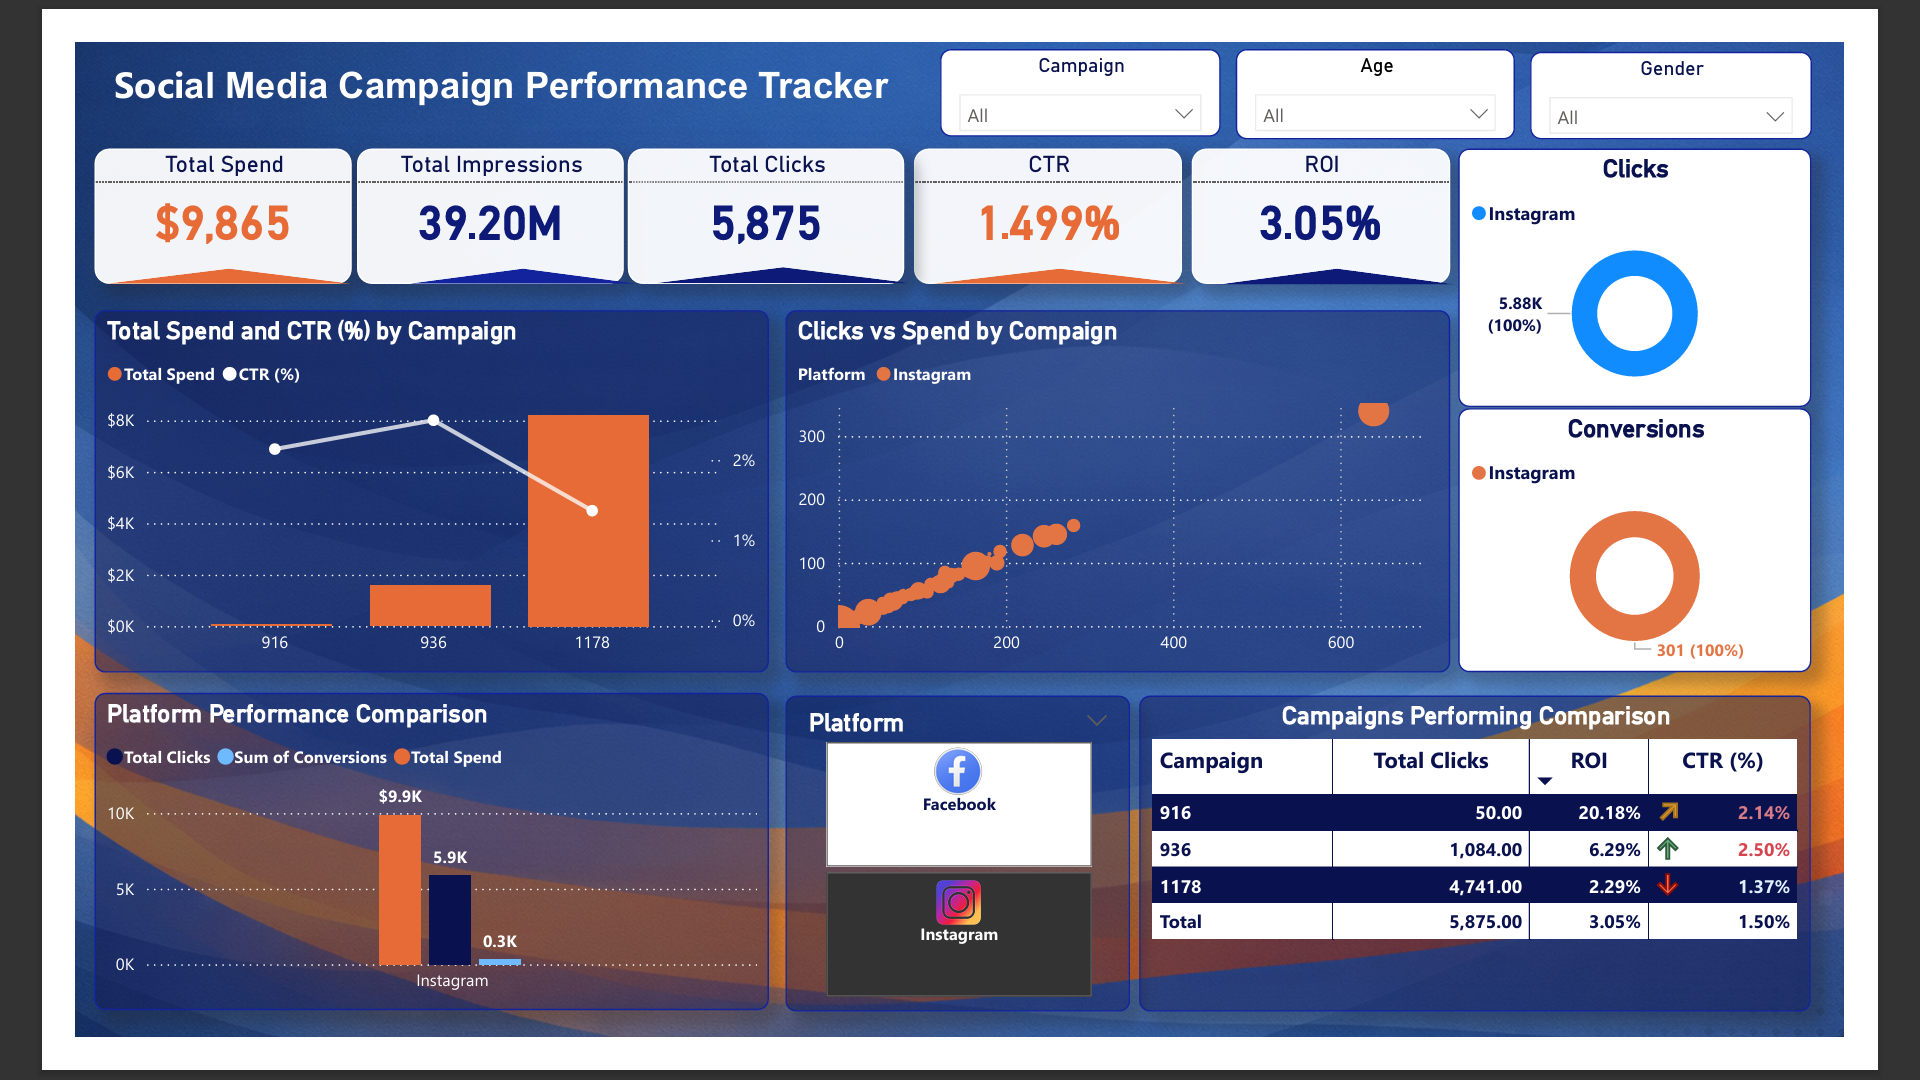

What the dashboard file says about the page in this screenshot:
{"tool":"powerbi","page":{"name":"Page 1","canvas":[1280,720],"ordinal":0},"visuals":[{"type":"card","title":"Total Spend","fields":{"Values":["data.Total Spend"]},"box":[13.7,78.2,188,98.8],"z":0},{"type":"card","title":"CTR","fields":{"Values":["data.CTR (%)"]},"box":[613.4,78.2,196.2,98.8],"z":1000},{"type":"card","title":"Total Clicks","fields":{"Values":["data.Total Clicks"]},"box":[404.4,78.2,202.1,98.8],"z":1500,"group":"g1"},{"type":"card","title":"ROI","fields":{"Values":["data.ROI"]},"box":[816.1,78.2,188.6,98.8],"z":2000},{"type":"shape","box":[425.7,165.5,184.5,11.5],"z":2001,"group":"g1"},{"type":"card","title":"Total Impressions","fields":{"Values":["data.Total Impressions"]},"box":[205.8,78.2,194.9,98.8],"z":3000},{"type":"shape","box":[836,165.5,172.2,11.5],"z":4000},{"type":"shape","box":[23.3,166,178.4,11],"z":5000},{"type":"shape","box":[627.1,166,185.2,11],"z":6000},{"type":"shape","box":[244.3,166,166,11],"z":7000},{"type":"textbox","box":[23.3,6.9,603.8,61.7],"z":8000},{"type":"group","id":"g1","title":"Group 1","box":[404.4,78.2,204.5,98.8],"z":9000},{"type":"lineClusteredColumnComboChart","fields":{"Category":["data.Campaign"],"Y":["data.Total Spend"],"Y2":["data.CTR (%)"]},"box":[13.7,196.2,492.6,264.8],"z":10000},{"type":"scatterChart","title":"Clicks vs Spend by Compaign","fields":{"X":["data.Spend"],"Y":["Sum(data.Clicks)"],"Size":["Sum(data.Conversions)"],"Series":["data.Platform"]},"box":[518.7,196.2,485.8,264.8],"z":11000},{"type":"donutChart","title":"Clicks","fields":{"Y":["data.Total Clicks"],"Category":["data.Platform"]},"box":[1011.3,78.2,258,189.4],"z":13000},{"type":"donutChart","title":" Conversions","fields":{"Y":["Sum(data.Conversions)"],"Category":["data.Platform"]},"box":[1011.3,267.6,258,193.5],"z":14000},{"type":"slicer","fields":{"Values":["data.Platform"]},"box":[518.8,477.5,252.3,230.9],"z":15000},{"type":"tableEx","title":" Campaigns Performing Comparison","fields":{"Values":["data.Campaign","data.Total Clicks","data.ROI","data.CTR (%)","select"]},"box":[778,477.5,491.3,230.5],"z":16000},{"type":"clusteredColumnChart","title":"Platform Performance Comparison","fields":{"Category":["data.Platform"],"Y":["data.Total Clicks","Sum(data.Conversions)","data.Total Spend"]},"box":[14.3,476.1,493.2,232.3],"z":17000},{"type":"slicer","title":"Campaign","fields":{"Values":["data.Campaign"]},"box":[632.6,5.5,205,64.5],"z":18000},{"type":"slicer","title":"Age","fields":{"Values":["data.age"]},"box":[848,5.5,204.5,65.9],"z":19000},{"type":"slicer","title":"Gender","fields":{"Values":["data.gender"]},"box":[1063.5,6.9,205.8,64.5],"z":20000},{"type":"image","box":[613.1,513.1,64.6,39.4],"z":21000},{"type":"image","box":[584.8,605.1,122.2,48.5],"z":22000}]}

Visuals, with their boxes in screenshot pixels (x1, y1, x2, y2), scaled from the page's 1280x720 canvas onto the 1920x1080 screenshot:
"Total Spend" card: region(21, 117, 303, 266)
"CTR" card: region(920, 117, 1214, 266)
"Total Clicks" card: region(607, 117, 910, 266)
"ROI" card: region(1224, 117, 1507, 266)
shape: region(639, 248, 915, 266)
"Total Impressions" card: region(309, 117, 601, 266)
shape: region(1254, 248, 1512, 266)
shape: region(35, 249, 303, 266)
shape: region(941, 249, 1218, 266)
shape: region(366, 249, 615, 266)
textbox: region(35, 10, 941, 103)
"Group 1" group: region(607, 117, 913, 266)
lineClusteredColumnComboChart - data.Campaign x data.Total Spend: region(21, 294, 759, 692)
"Clicks vs Spend by Compaign" scatterChart: region(778, 294, 1507, 692)
"Clicks" donutChart: region(1517, 117, 1904, 401)
" Conversions" donutChart: region(1517, 401, 1904, 692)
slicer - data.Platform: region(778, 716, 1157, 1063)
" Campaigns Performing Comparison" tableEx: region(1167, 716, 1904, 1062)
"Platform Performance Comparison" clusteredColumnChart: region(21, 714, 761, 1063)
"Campaign" slicer: region(949, 8, 1256, 105)
"Age" slicer: region(1272, 8, 1579, 107)
"Gender" slicer: region(1595, 10, 1904, 107)
image: region(920, 770, 1017, 829)
image: region(877, 908, 1060, 980)
